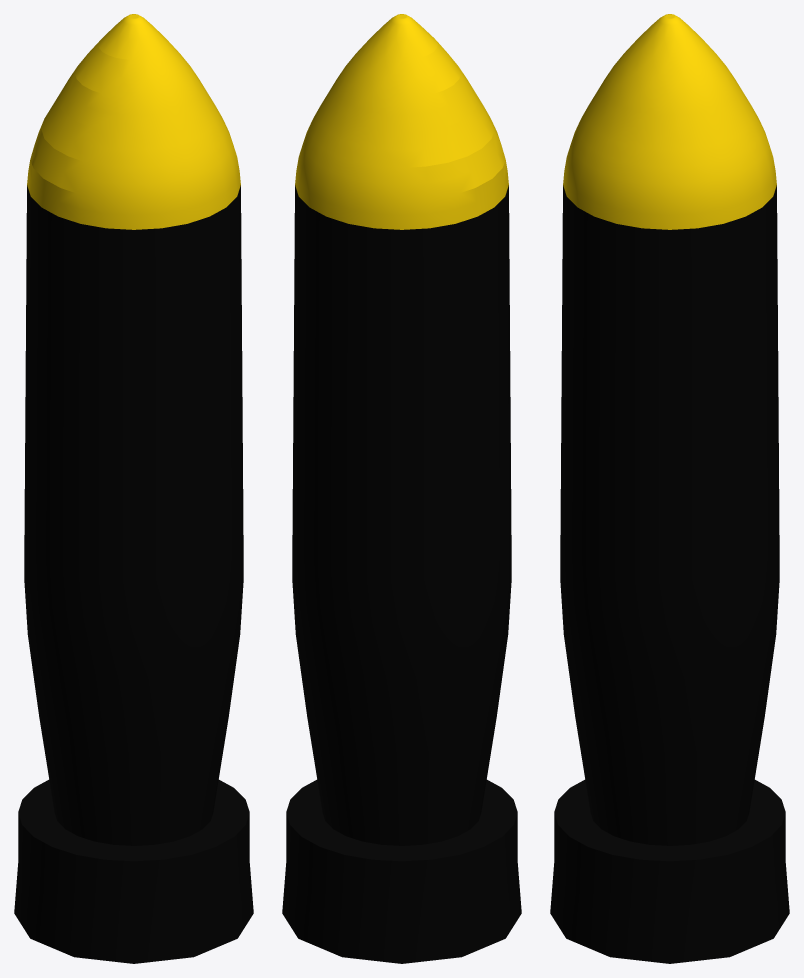
Rendered from Torpedo.FBX.
3 views of the same model, side by side, from view 1: azimuth 30°, elevation 25°; view 2: azimuth 150°, elevation 25°; view 3: azimuth 270°, elevation 25° (orthographic).
Visible parts, largest first — view 1: Cylinder001; view 2: Cylinder001; view 3: Cylinder001.
Boxes of the visible parts, x1,y1,x2,y2 form: Cylinder001: (14,14,253,963); Cylinder001: (282,14,521,963); Cylinder001: (550,14,789,963).
Bounding box in the file's own units: 134 × 553 × 134.
